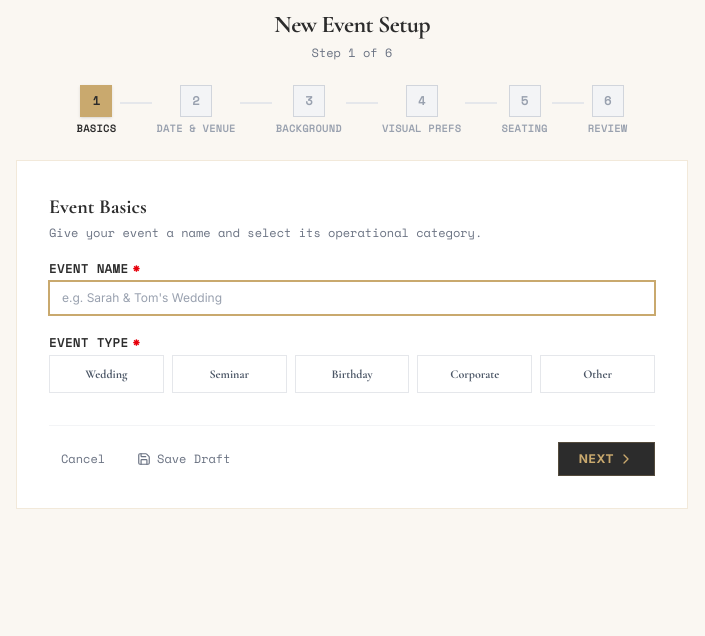
Test: ProjectSetupWizard › goes back from Step 2 to Step 1 and preserves name value
Type "Preserved Name" into the field labelled "Event Name*" at (352, 298), box [49, 281, 655, 315]
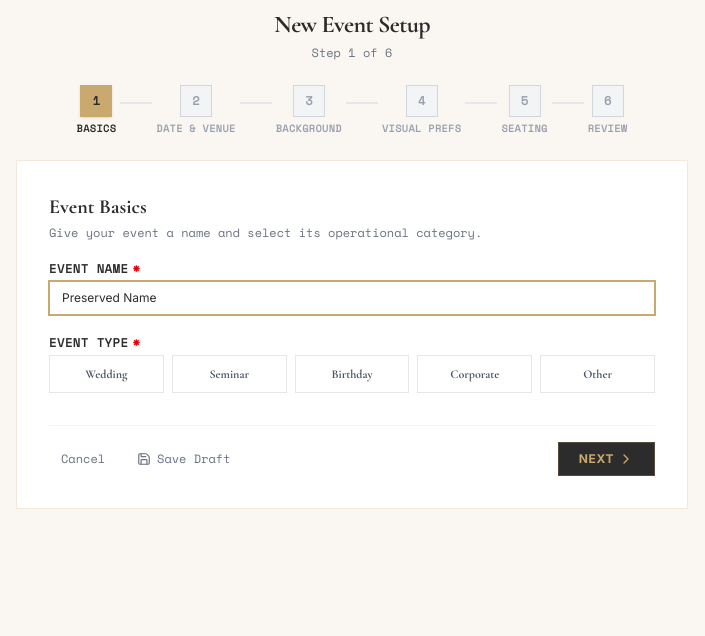
Click the radio button labelled "Wedding" at (106, 374), box [49, 355, 164, 393]
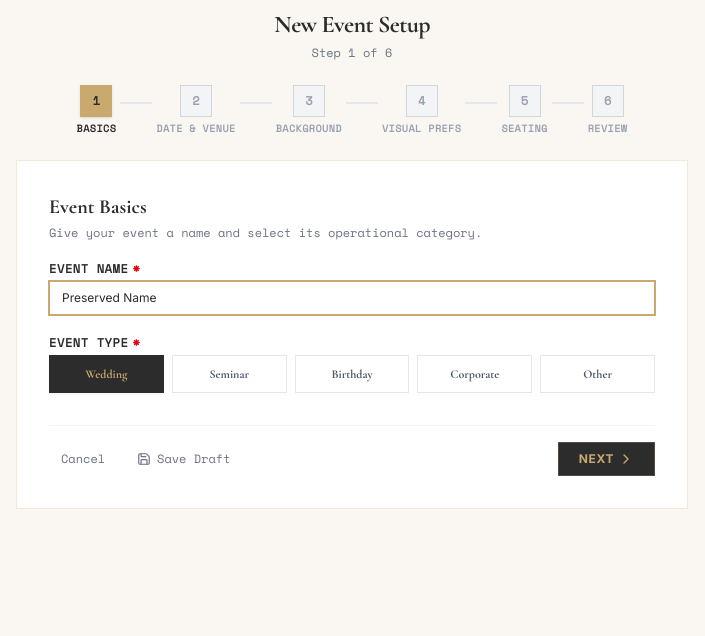
Click the button "Next" at (606, 459), box [558, 442, 655, 476]
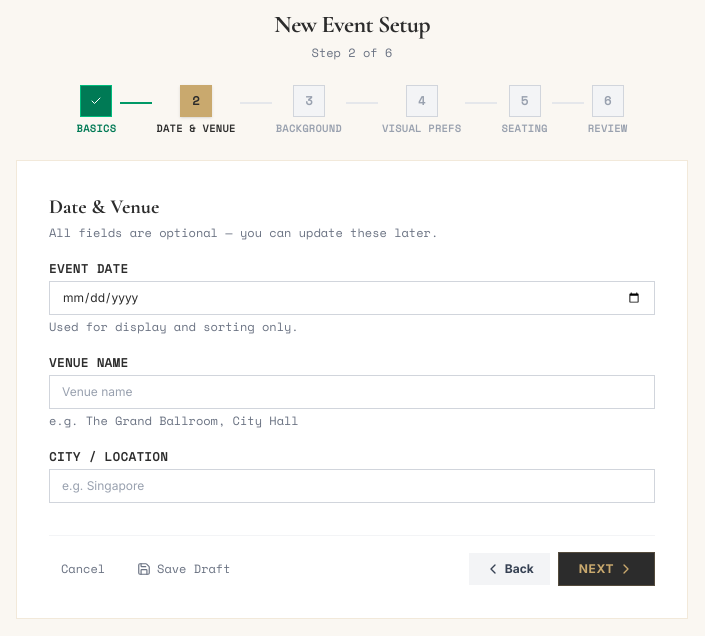
expect the heading "Date & Venue" is shown: met, box [49, 195, 159, 219]
Click the button "Back" at (509, 569), box [469, 553, 550, 585]
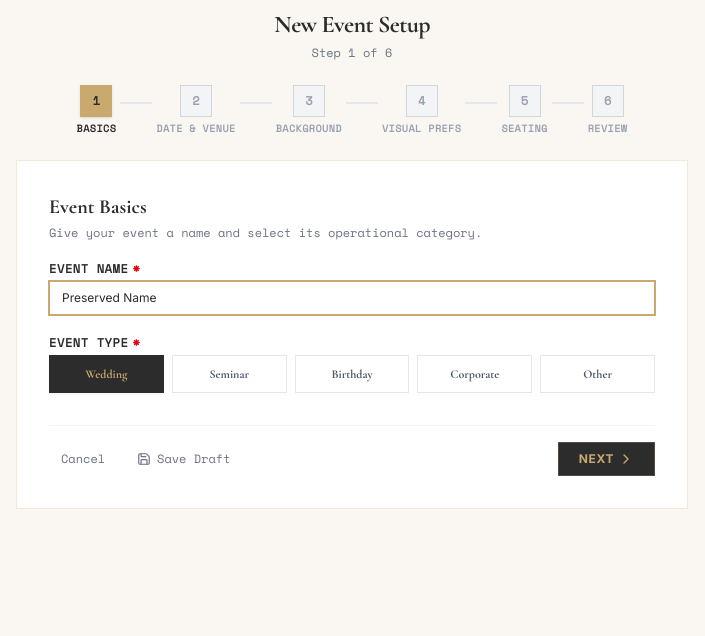
expect the field labelled "Event Name*" holds "Preserved Name": met, box [49, 281, 655, 315]
